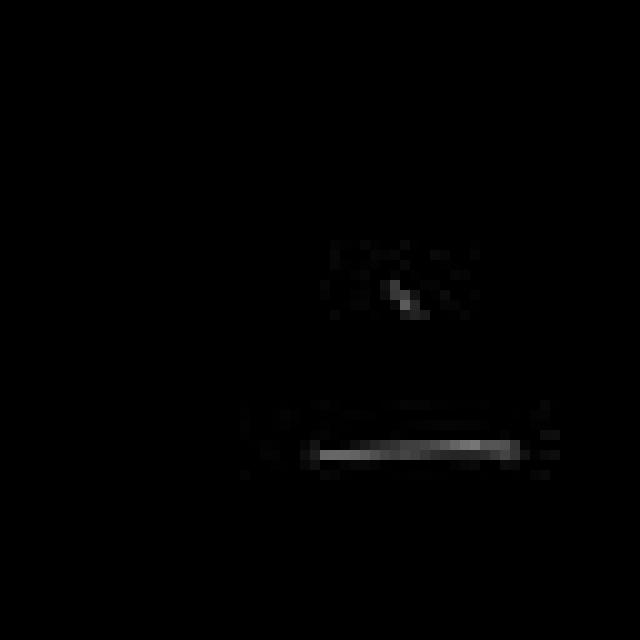2 -two-: (294, 258, 535, 488)
